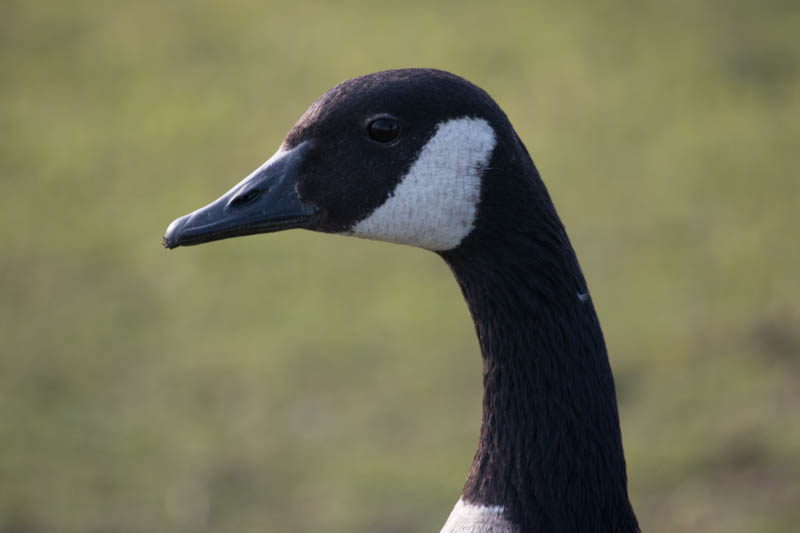goose-head: (162, 67, 574, 251)
